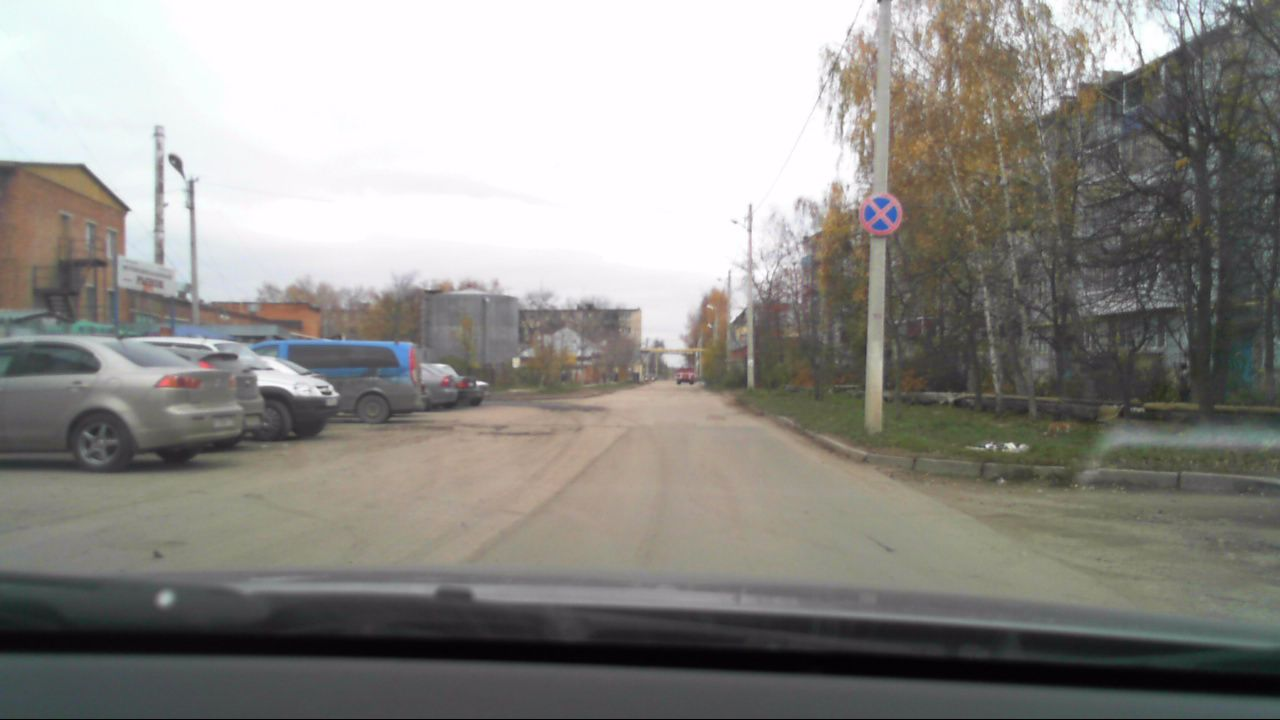No Parking: (857, 193, 905, 234)
